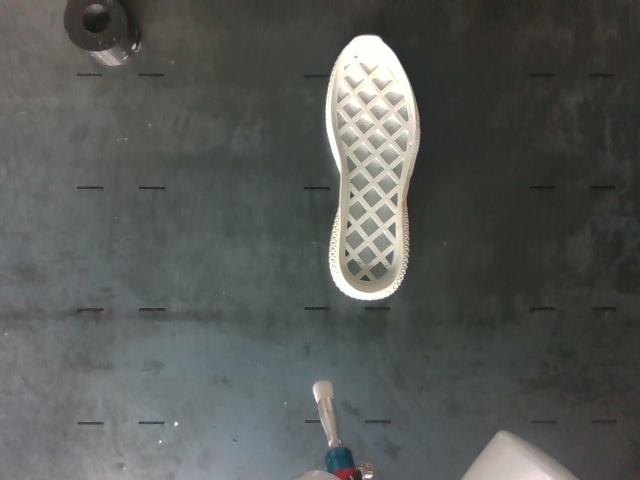shoes: (331, 36, 415, 293)
